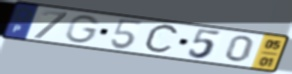0: (223, 35, 257, 64)
5: (108, 17, 145, 51), (187, 28, 225, 61)
7: (33, 8, 70, 40)
C: (141, 23, 181, 56)
G: (64, 14, 103, 45)
